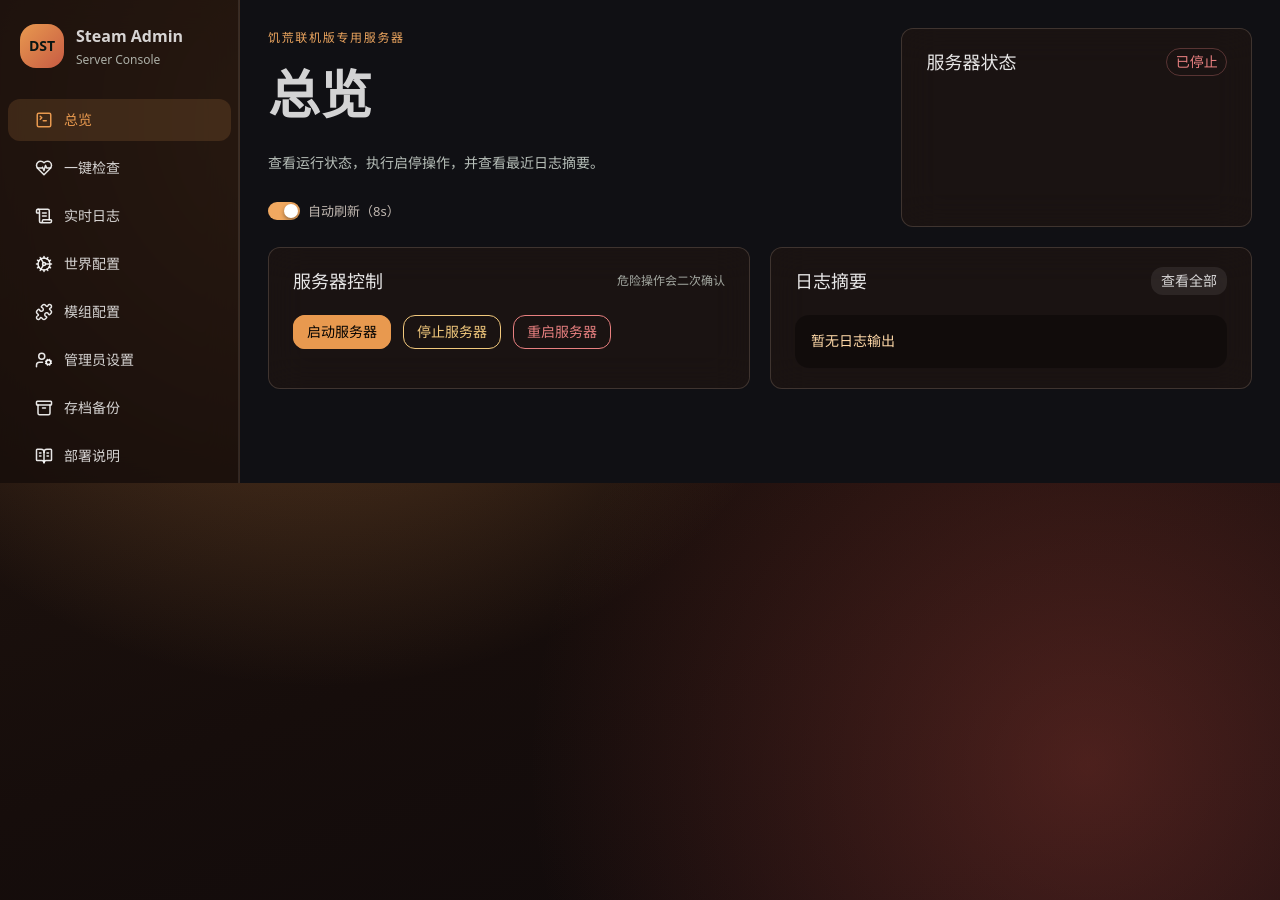
Test: App › switches to admin settings and renders the admin list
Click the menu item with class "n-menu-item-content": (84, 359) 35,350 -> 134,369
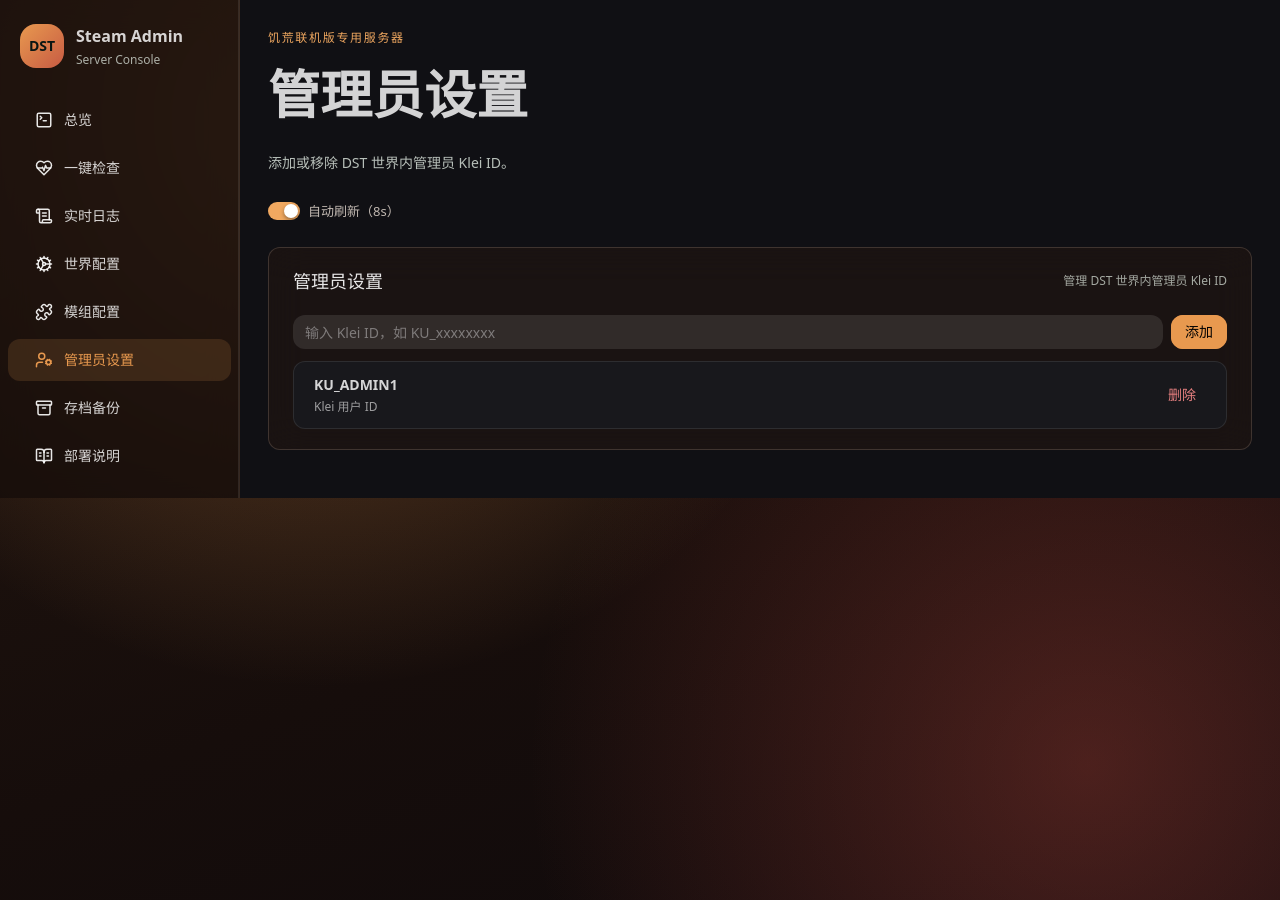
Expected: the text "管理 DST 世界内管理员 Klei ID" is shown, 1063,271 -> 1227,290
Expected: the text "KU_ADMIN1" is shown, 314,374 -> 398,397
